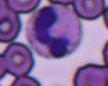N: (28, 4, 82, 58)
